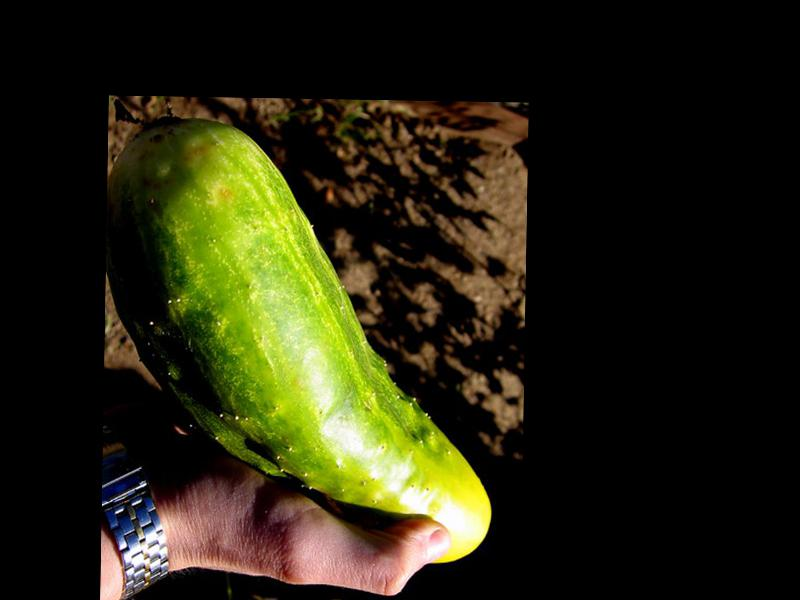Cucumber: (100, 115, 497, 564)
